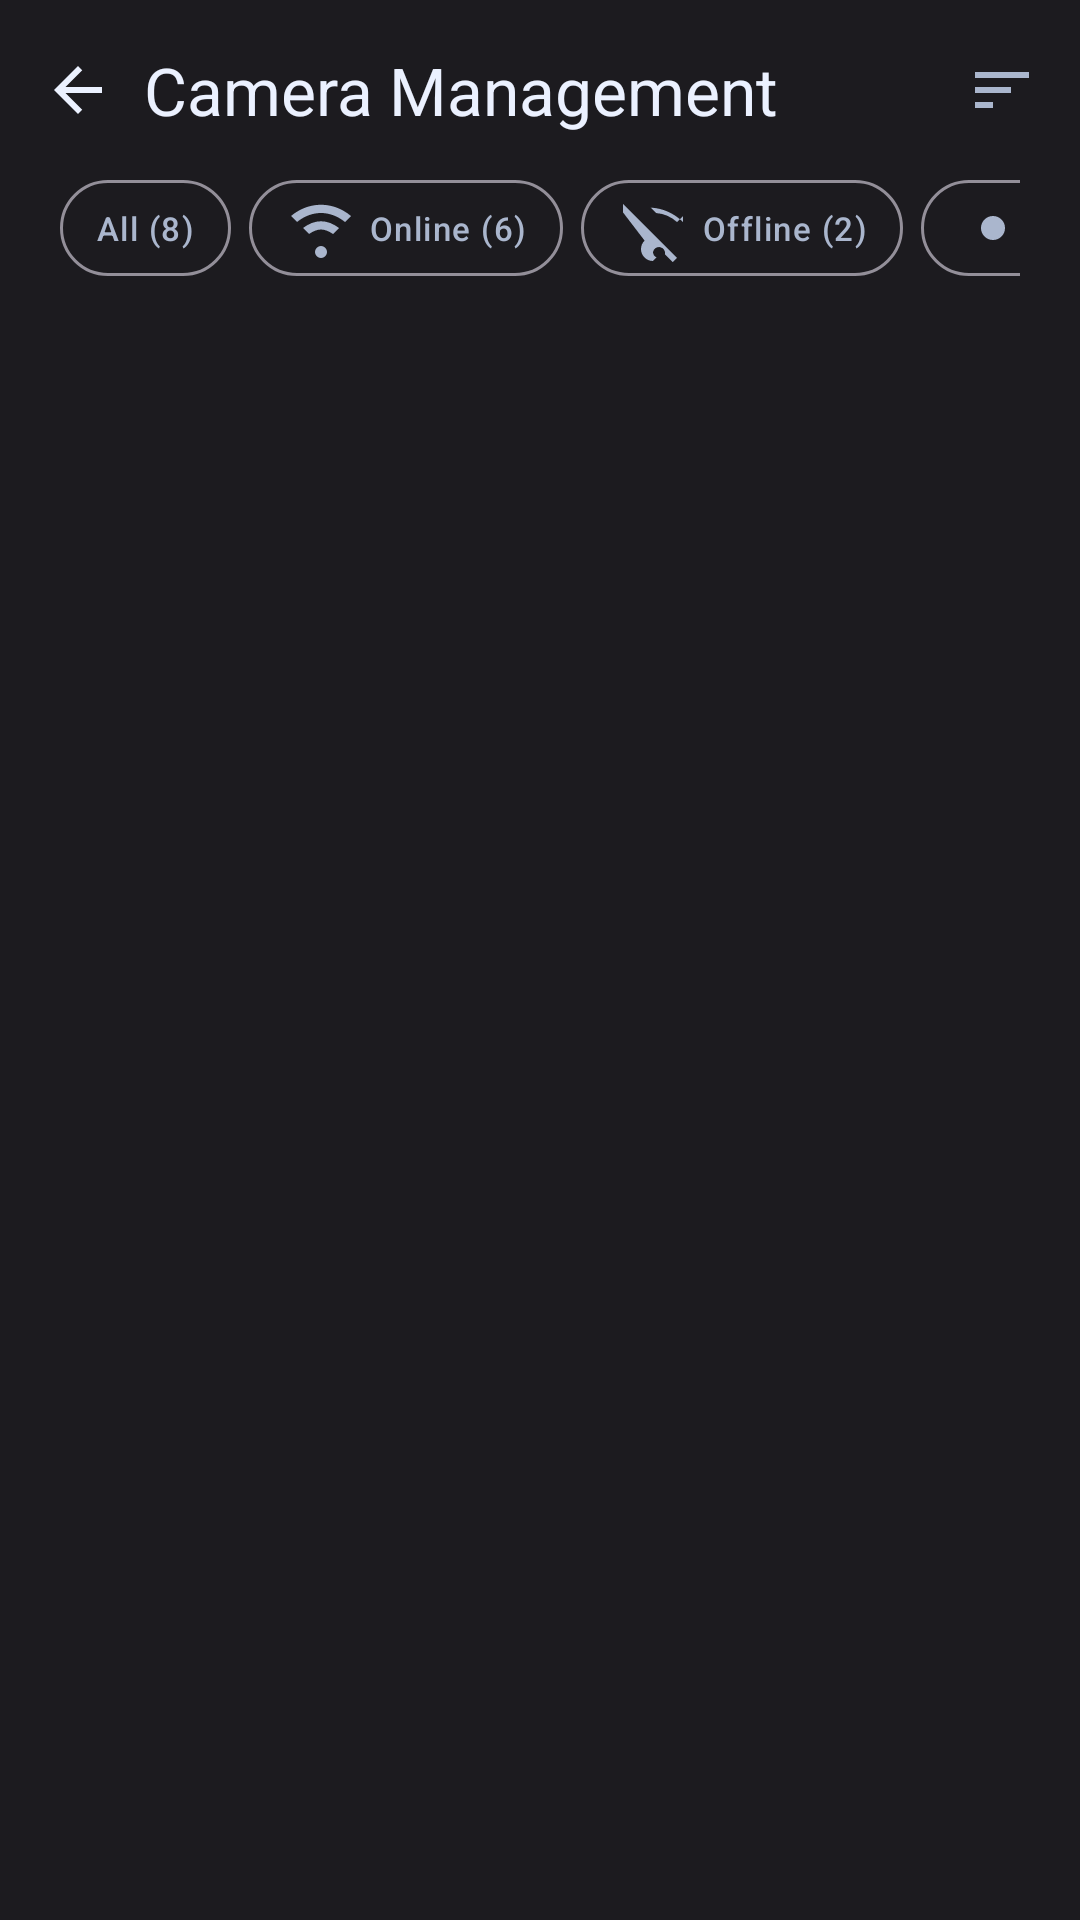

Point at icon controls on the screen. Image size 1080px×1920px, points as [x,y].
Back: [78,90]
Sort: [1002,90]
